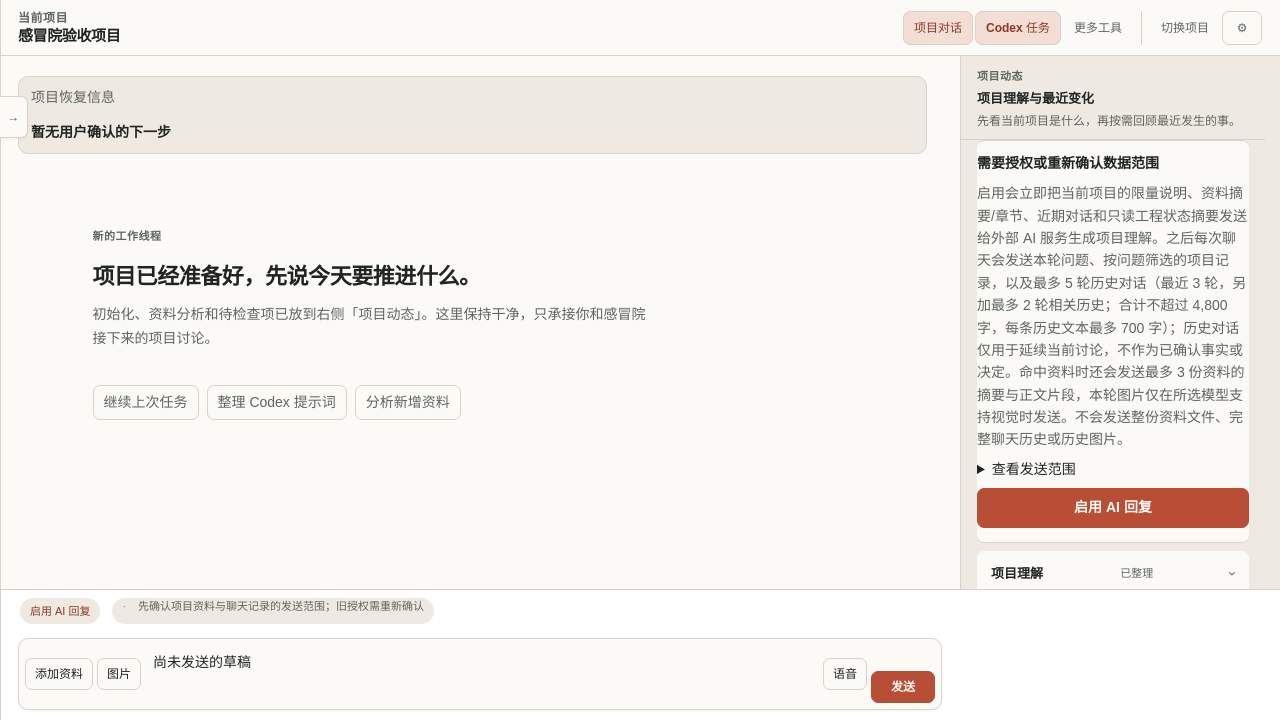
project workspace persistence flow › keeps the current project open when its composer draft cannot be saved
The width and height of the screenshot is (1280, 720).
Click the button "切换项目": (1185, 28) [1150, 10, 1220, 44]
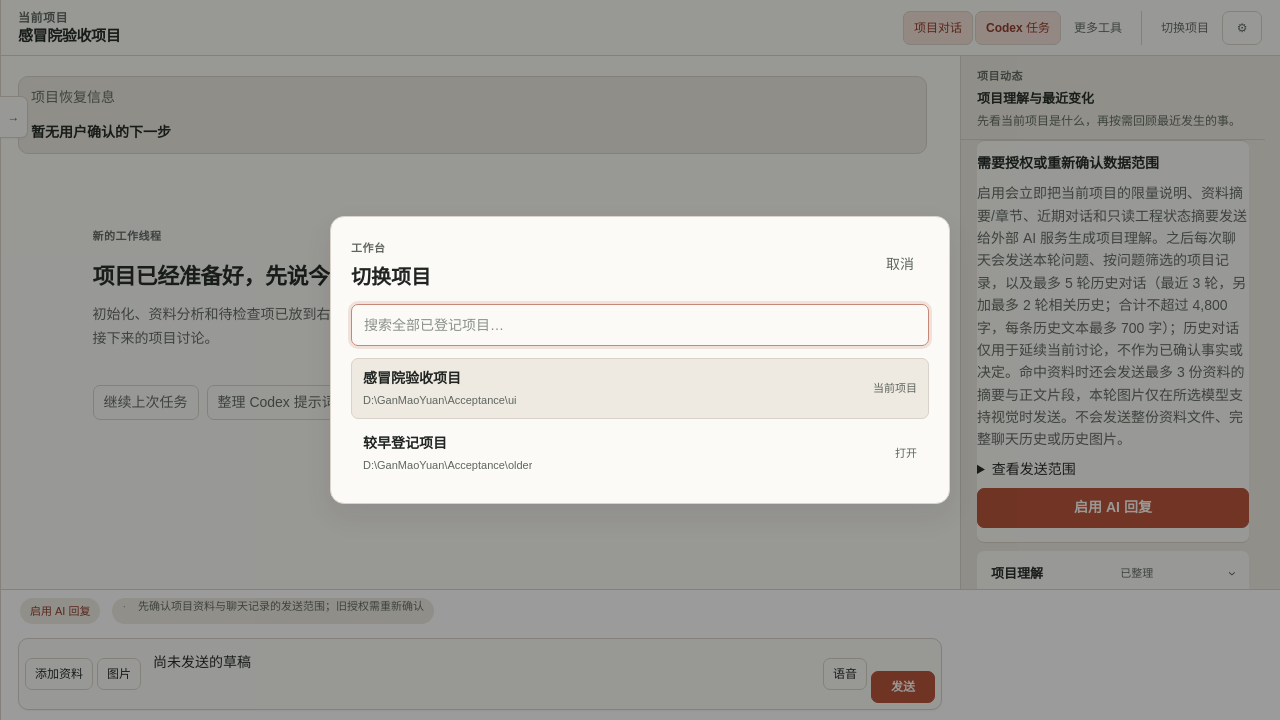
Click the button "较早登记项目 D:\\GanMaoYuan\\Acceptance\\older 打开": (405, 442) [351, 422, 929, 483]
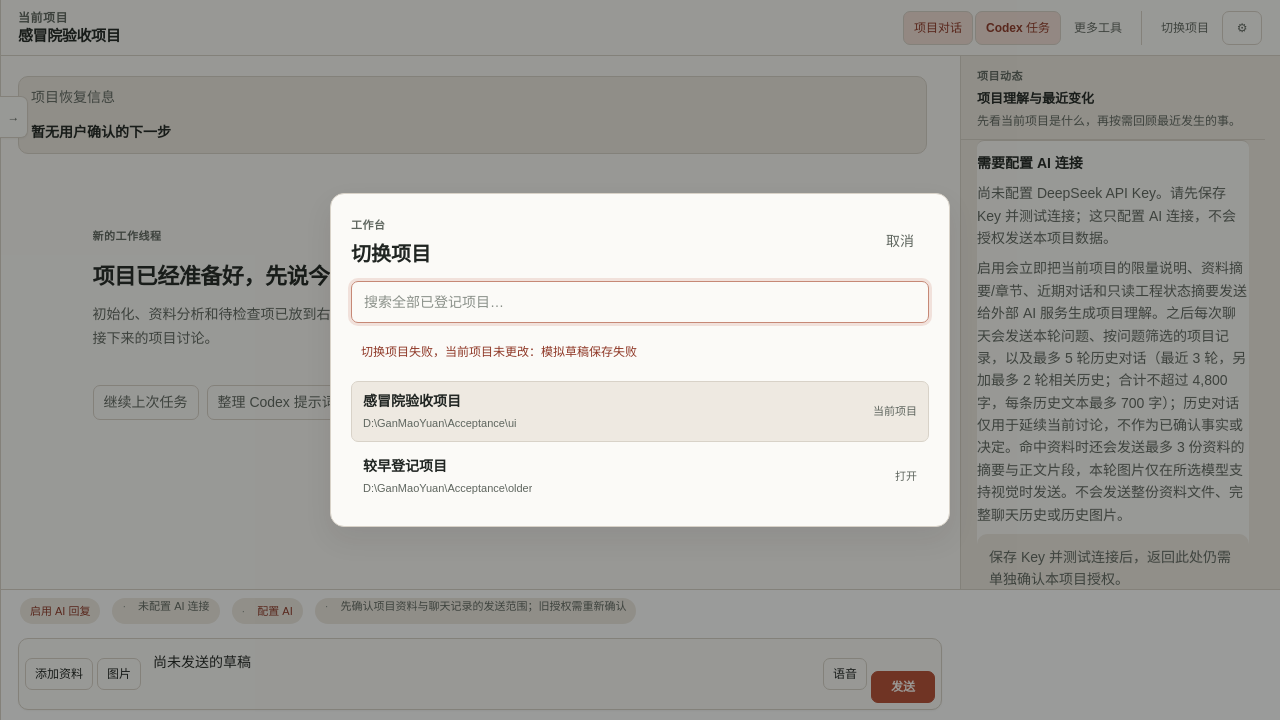
Expected: the text "感冒院验收项目" in the row of "更多工具" is shown, [18, 28, 120, 44]
Expected: the message reads "切换项目失败，当前项目未更改：模拟草稿保存失败", [361, 345, 637, 359]
